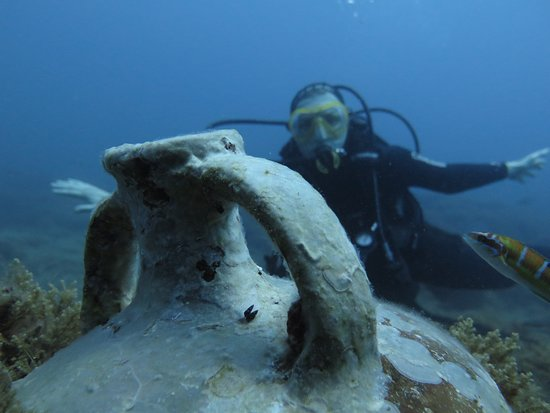amphora: (1, 125, 516, 413)
